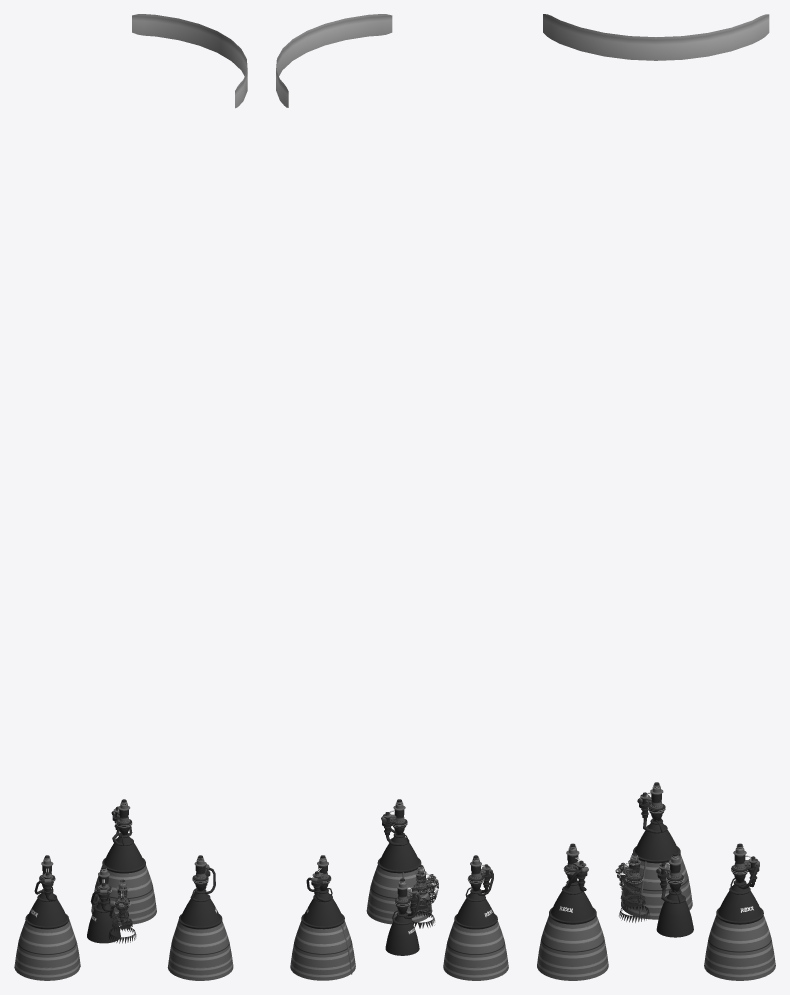
File: ESP-Starship-Part-009.obj
3 renders of one model, left to right at view 1: azimuth 30°, elevation 25°; view 2: azimuth 150°, elevation 25°; view 3: azimuth 270°, elevation 25°, orthographic. The views are drawn at different scales.
Parts seen in each view (by area): view 1: Ship__Raptor_3_Vaccum_Cylinder.020, Ship__Raptor_3_Vaccum_001_Cylinder.021, Ship__Raptor_3_Vaccum_002_Cylinder.022, Ship__Cargo_Door_Cylinder.023, Ship__Raptor_3_002_Cylinder.019, Ship__Raptor_3_001_Cylinder.017; view 2: Ship__Raptor_3_Vaccum_001_Cylinder.021, Ship__Raptor_3_Vaccum_002_Cylinder.022, Ship__Raptor_3_Vaccum_Cylinder.020, Ship__Cargo_Door_Cylinder.023, Ship__Raptor_3_002_Cylinder.019, Ship__Raptor_3_001_Cylinder.017; view 3: Ship__Raptor_3_Vaccum_002_Cylinder.022, Ship__Raptor_3_Vaccum_Cylinder.020, Ship__Cargo_Door_Cylinder.023, Ship__Raptor_3_Vaccum_001_Cylinder.021, Ship__Raptor_3_002_Cylinder.019, Ship__Raptor_3_001_Cylinder.017.
Part boxes in pixels (x1,y1,x2,y2): Ship__Raptor_3_Vaccum_Cylinder.020: (167, 855, 233, 980); Ship__Raptor_3_Vaccum_001_Cylinder.021: (14, 855, 80, 980); Ship__Raptor_3_Vaccum_002_Cylinder.022: (91, 799, 156, 924); Ship__Cargo_Door_Cylinder.023: (132, 14, 247, 108); Ship__Raptor_3_002_Cylinder.019: (87, 866, 120, 943); Ship__Raptor_3_001_Cylinder.017: (108, 879, 136, 943); Ship__Raptor_3_Vaccum_001_Cylinder.021: (443, 855, 508, 980); Ship__Raptor_3_Vaccum_002_Cylinder.022: (290, 855, 355, 980); Ship__Raptor_3_Vaccum_Cylinder.020: (366, 799, 432, 924); Ship__Cargo_Door_Cylinder.023: (276, 14, 392, 107); Ship__Raptor_3_002_Cylinder.019: (385, 878, 420, 955); Ship__Raptor_3_001_Cylinder.017: (409, 865, 438, 928); Ship__Raptor_3_Vaccum_002_Cylinder.022: (704, 843, 775, 980); Ship__Raptor_3_Vaccum_Cylinder.020: (537, 843, 608, 980); Ship__Cargo_Door_Cylinder.023: (543, 14, 769, 60); Ship__Raptor_3_Vaccum_001_Cylinder.021: (621, 782, 692, 919); Ship__Raptor_3_002_Cylinder.019: (656, 853, 693, 937); Ship__Raptor_3_001_Cylinder.017: (615, 853, 649, 922).
Bounding box in the file's own units: 8.88 × 35.35 × 7.93.
6 materials, 6 textured.
